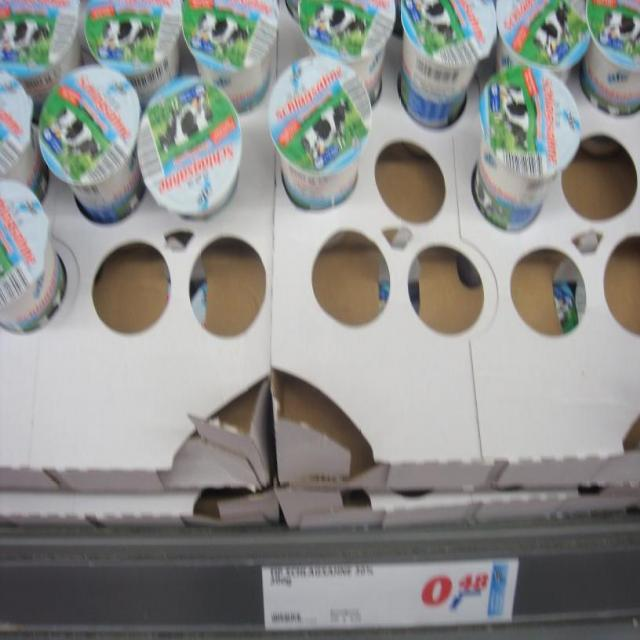Cream: (472, 66, 580, 230), (39, 65, 143, 223), (268, 58, 371, 209), (137, 76, 241, 218), (398, 0, 496, 128), (182, 0, 277, 111), (84, 0, 180, 105), (298, 0, 396, 102), (0, 180, 65, 332), (0, 0, 80, 113), (496, 0, 589, 82), (583, 0, 640, 113), (0, 71, 48, 200)
